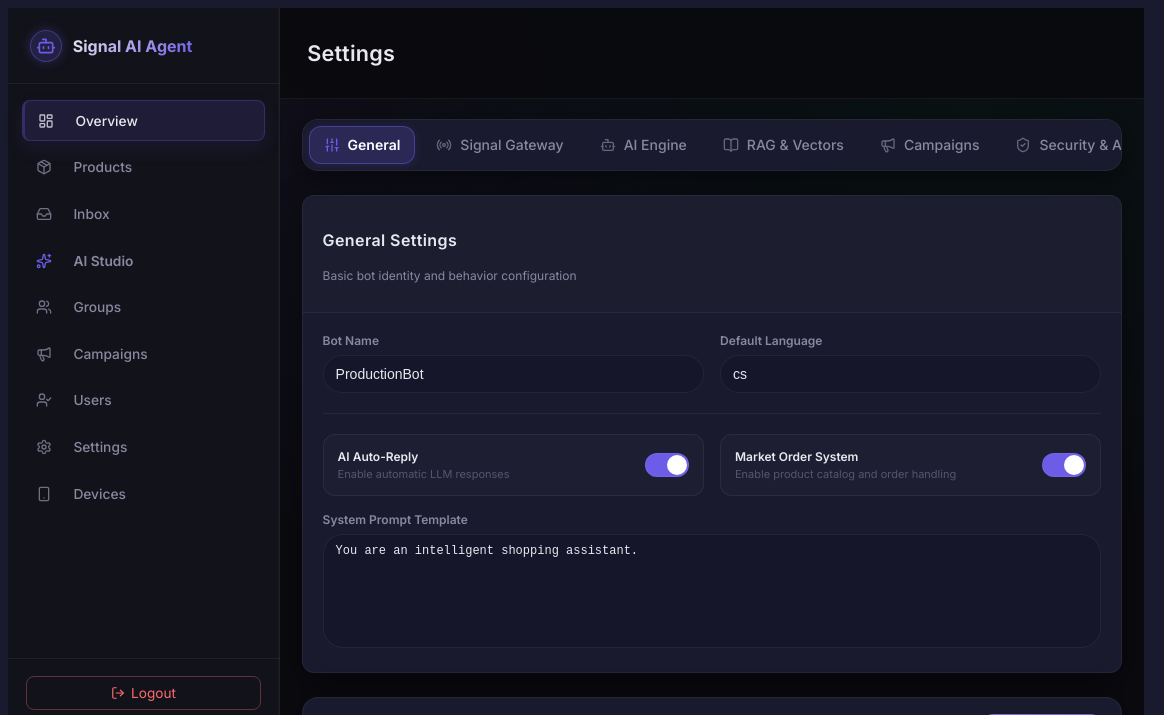
SettingsPage Component › switches between tabs and shows masked secrets
The width and height of the screenshot is (1164, 715).
Check: the field showing "ProductionBot" below "Bot Name" is shown, box [323, 355, 704, 393]
Note: Switch to Signal Gateway tab
Click the tab "Signal Gateway" at (500, 145), box [421, 126, 579, 164]
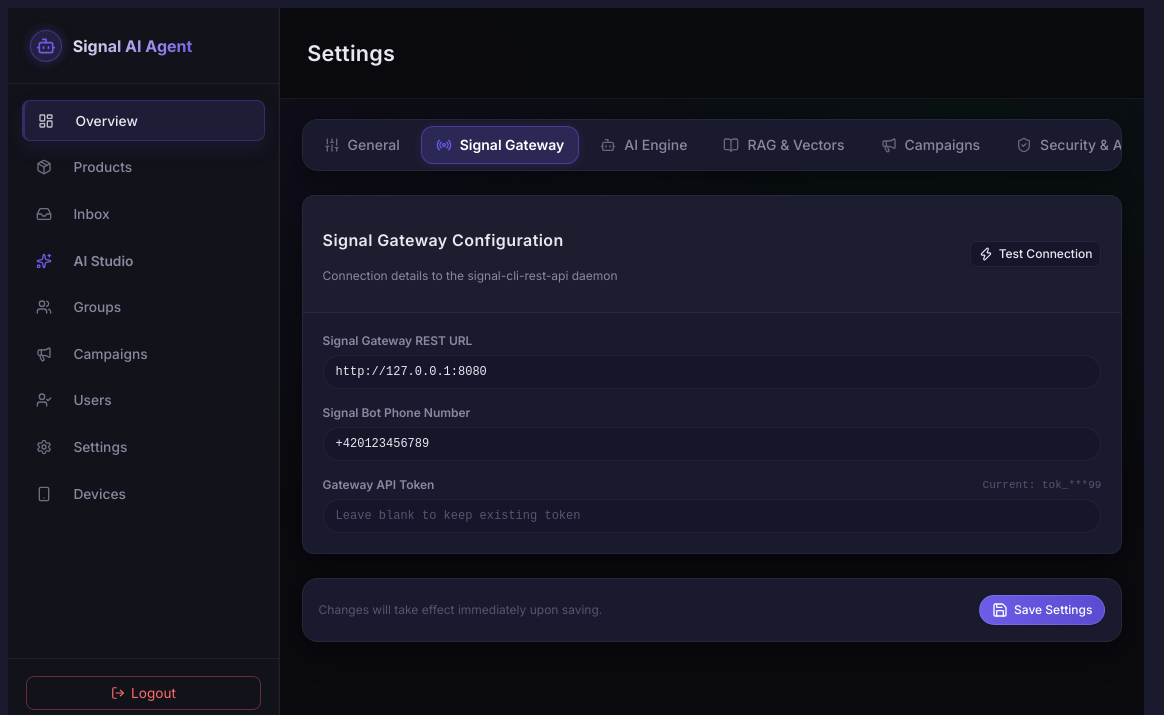
Check: the field showing "http://127.0.0.1:8080" below "Signal Gateway REST URL" is shown, box [323, 355, 1101, 389]
Check: the field showing "+420123456789" below "Signal Bot Phone Number" is shown, box [323, 427, 1101, 461]
Check: the text "Current: tok_***99" is shown, box [983, 479, 1101, 491]
Note: Switch to AI Engine tab
Click the tab "AI Engine" at (644, 145), box [585, 126, 702, 164]
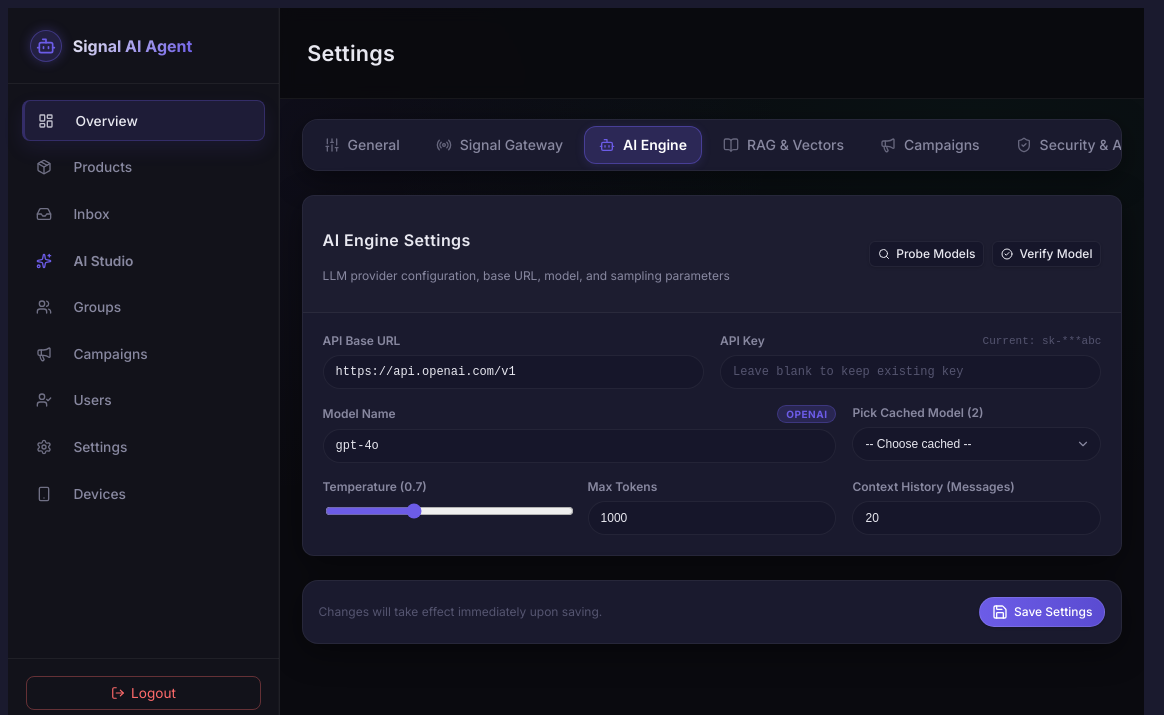
Check: the field showing "https://api.openai.com/v1" below "API Base URL" is shown, box [323, 355, 704, 389]
Check: the field showing "gpt-4o" below "Model Name" is shown, box [323, 429, 836, 463]
Check: the text "Current: sk-***abc" is shown, box [983, 335, 1101, 347]
Note: Switch to Campaign tab
Click the tab "Campaigns" at (930, 145), box [865, 126, 995, 164]
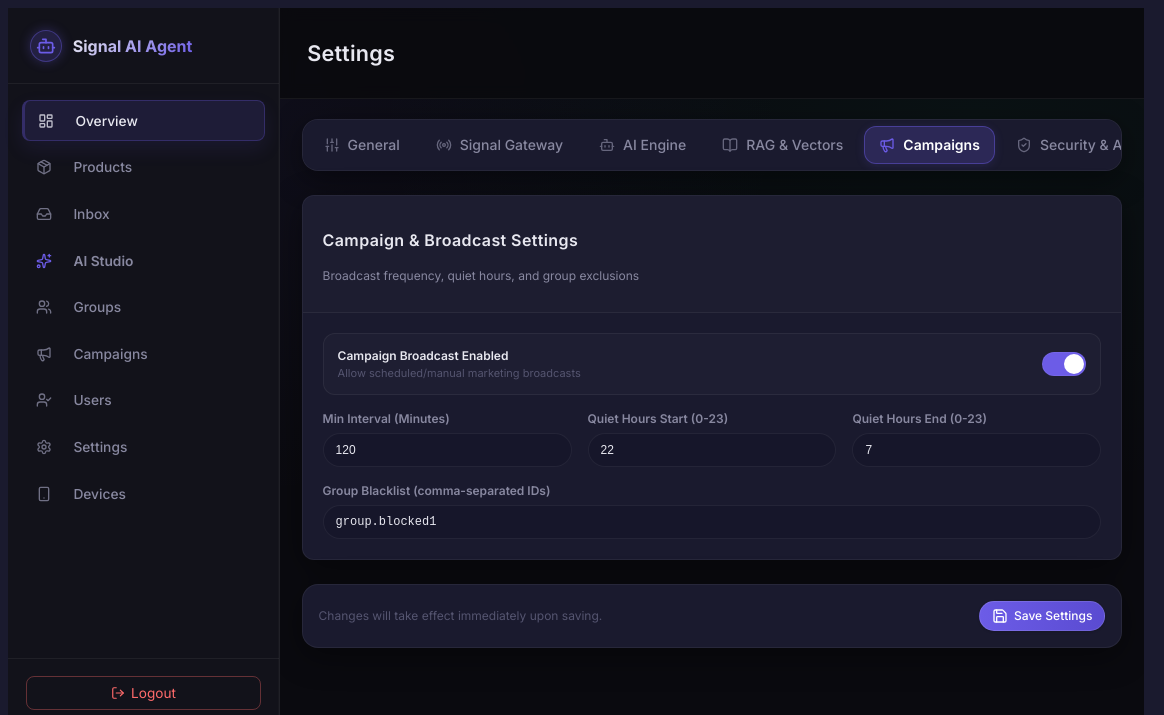
Check: the number field showing "120" below "Min Interval (Minutes)" is shown, box [323, 433, 572, 467]
Check: the field showing "group.blocked1" is shown, box [323, 505, 1101, 539]
